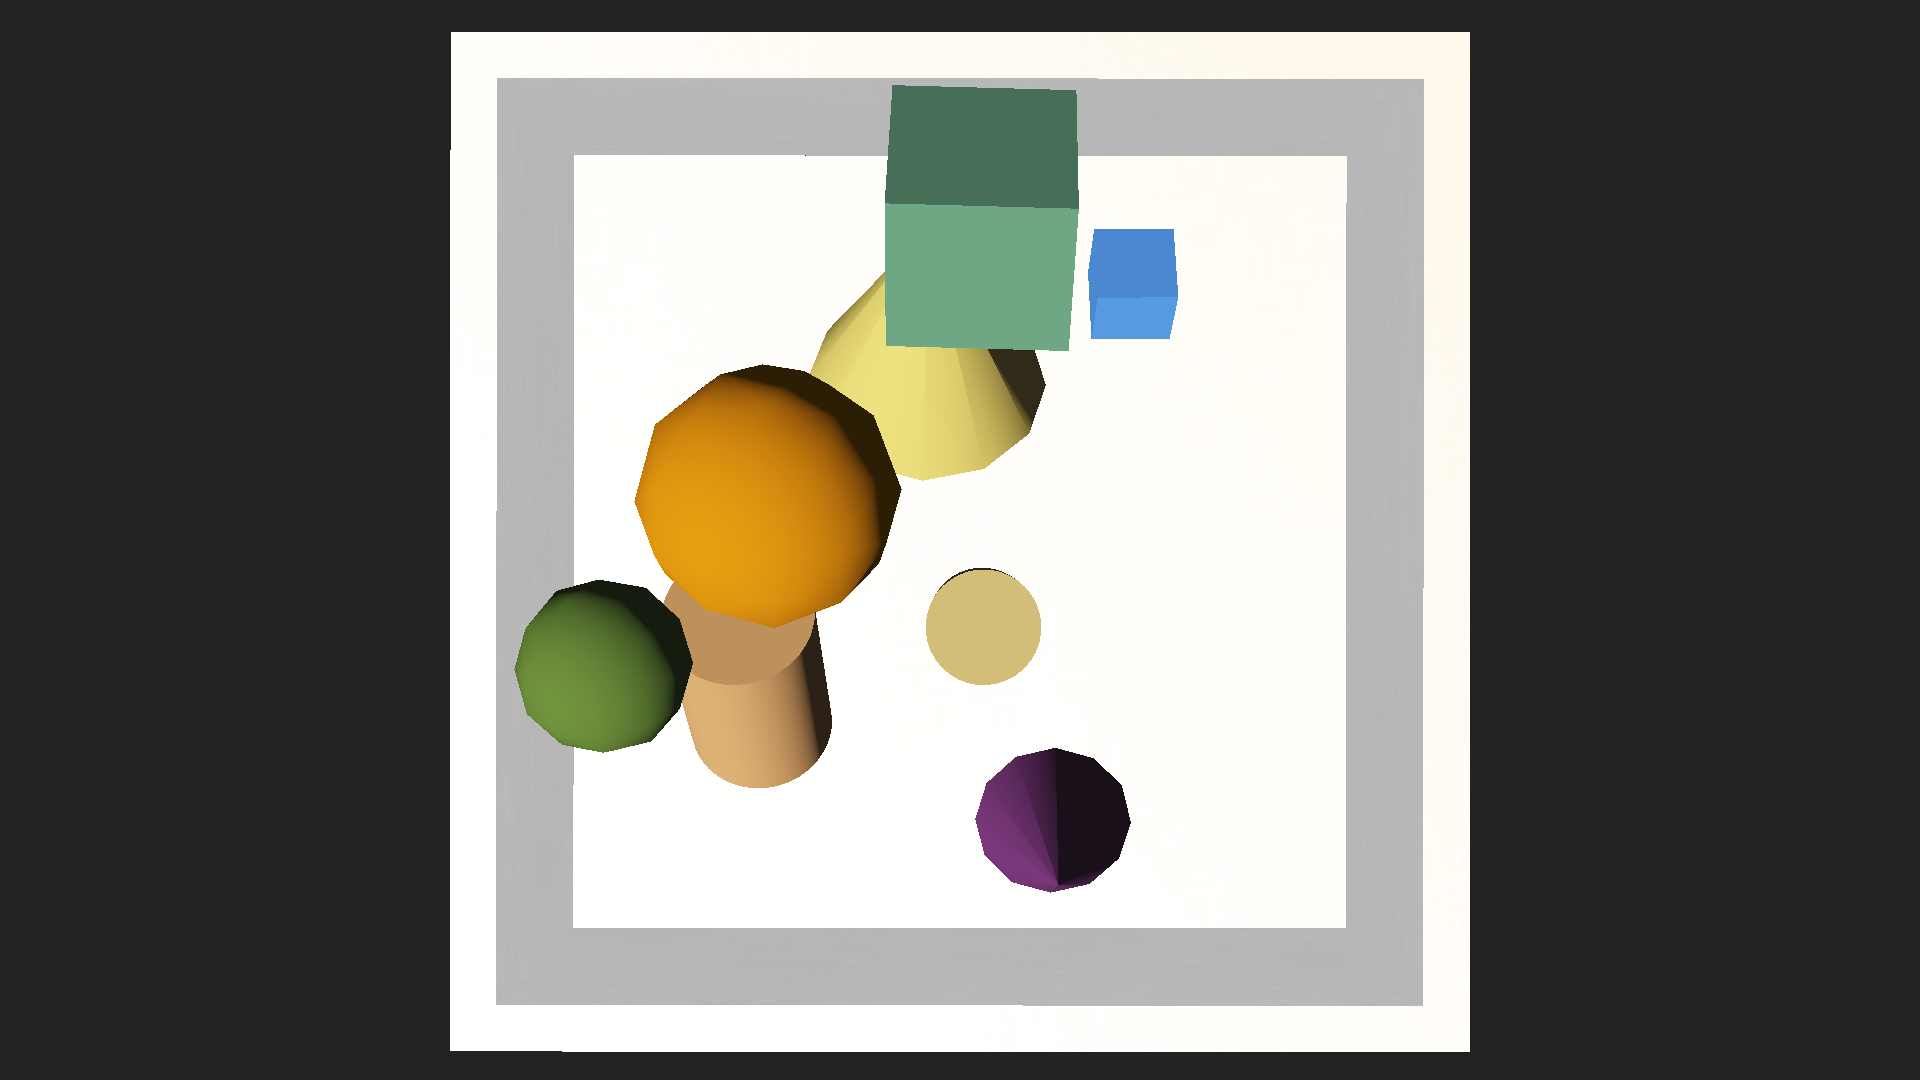3: (880, 59, 1083, 360), (1087, 224, 1178, 342)
cone: (655, 546, 833, 812), (926, 566, 1040, 684)
cylinder: (980, 749, 1137, 961)
sphere: (634, 361, 902, 629), (514, 576, 692, 754)
